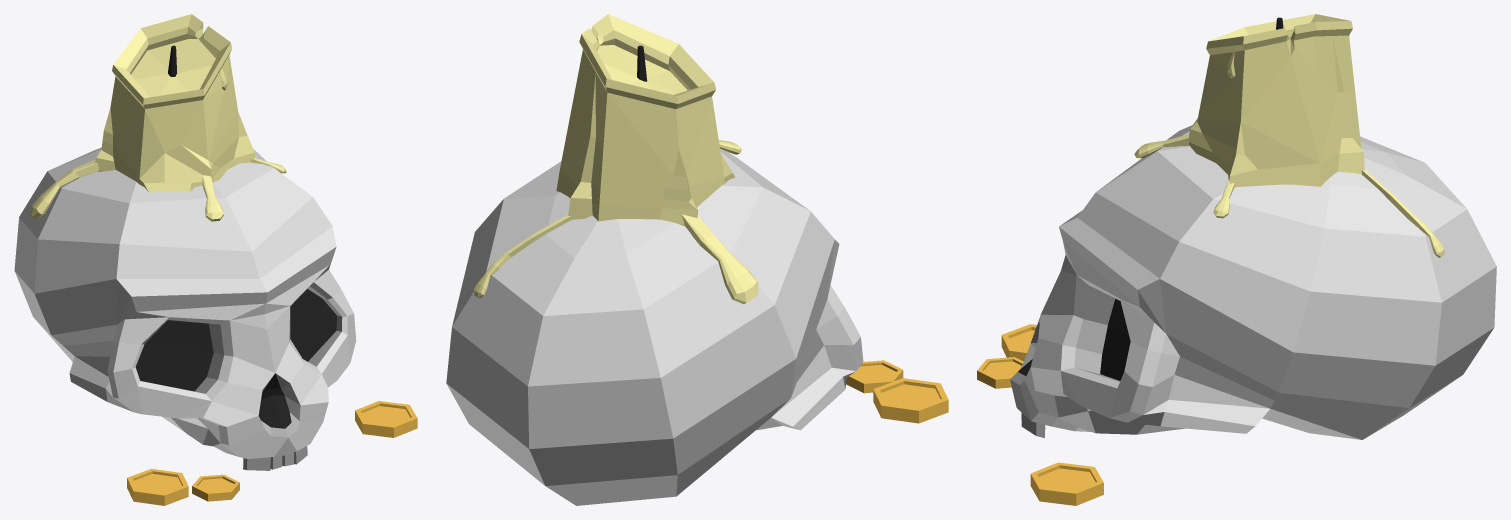
The model's file is CandleSkull.fbx.
3 renders of one model, left to right at view 1: azimuth 30°, elevation 25°; view 2: azimuth 150°, elevation 25°; view 3: azimuth 270°, elevation 25°, orthographic. The views are drawn at different scales.
Visible parts, largest first — view 1: CandleSkull; view 2: CandleSkull; view 3: CandleSkull.
Part boxes in pixels (box(x1,y1,x2,y2)): CandleSkull: box(14, 14, 417, 505); CandleSkull: box(446, 14, 948, 505); CandleSkull: box(977, 14, 1496, 505).
Size of the model in its own units: 0.206 by 0.2667 by 0.2368.
